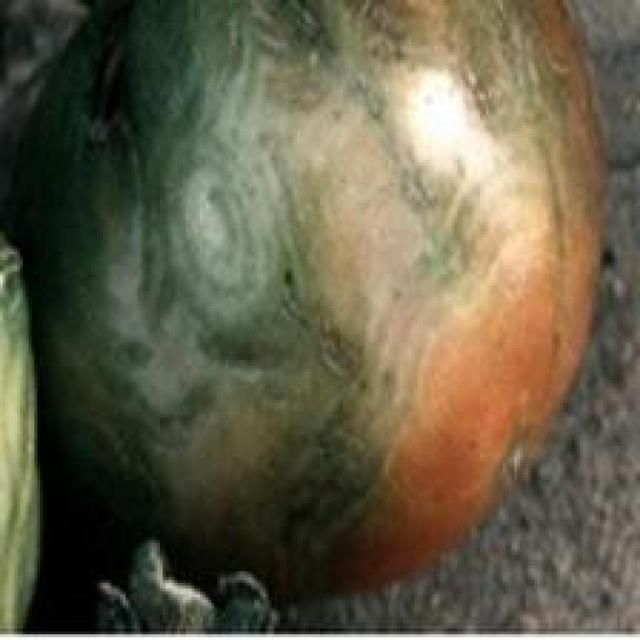Spotted wilt Virus Fruit: (13, 0, 402, 402)
